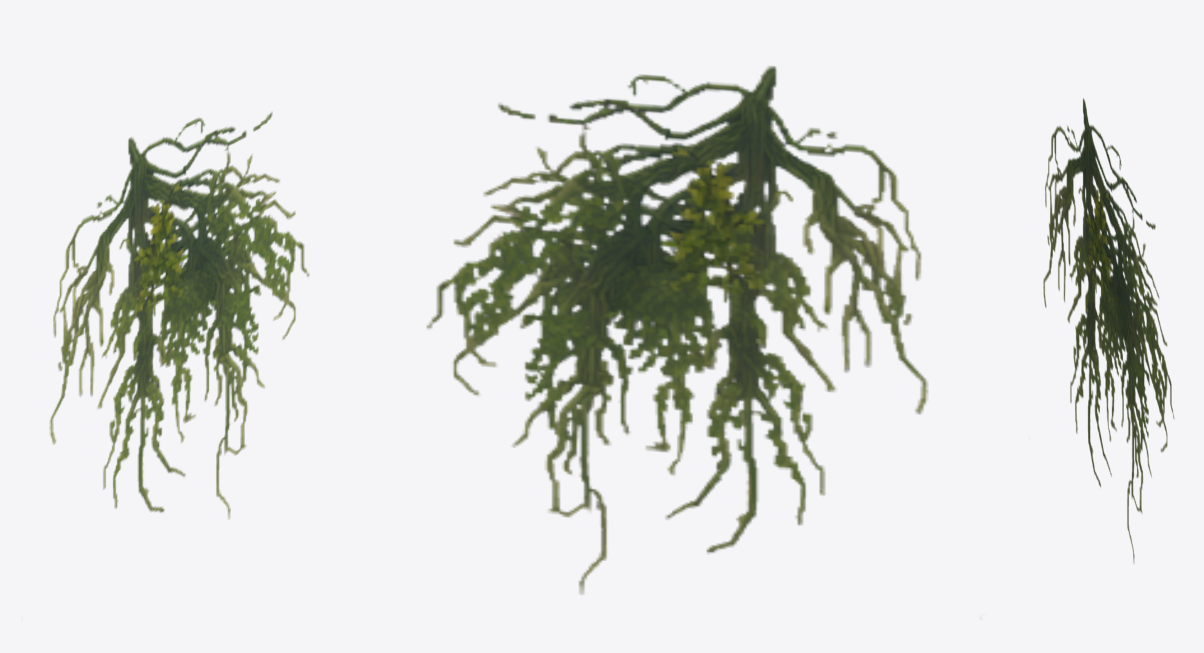
The model's file is Forest_1_Tree_5_Liquen_2.gltf.
3 renders of one model, left to right at view 1: azimuth 30°, elevation 25°; view 2: azimuth 150°, elevation 25°; view 3: azimuth 270°, elevation 25°, orthographic. The views are drawn at different scales.
Parts seen in each view (by area): view 1: Forest_1_Tree_5_Liquen_2; view 2: Forest_1_Tree_5_Liquen_2; view 3: Forest_1_Tree_5_Liquen_2.
Boxes of the visible parts, box(x1,y1,x2,y2) form: Forest_1_Tree_5_Liquen_2: box(49, 112, 309, 519); Forest_1_Tree_5_Liquen_2: box(426, 66, 928, 594); Forest_1_Tree_5_Liquen_2: box(1043, 98, 1174, 563).
Bounding box in the file's own units: 5.55 × 5.9 × 2.03.
1 material, 1 textured.
